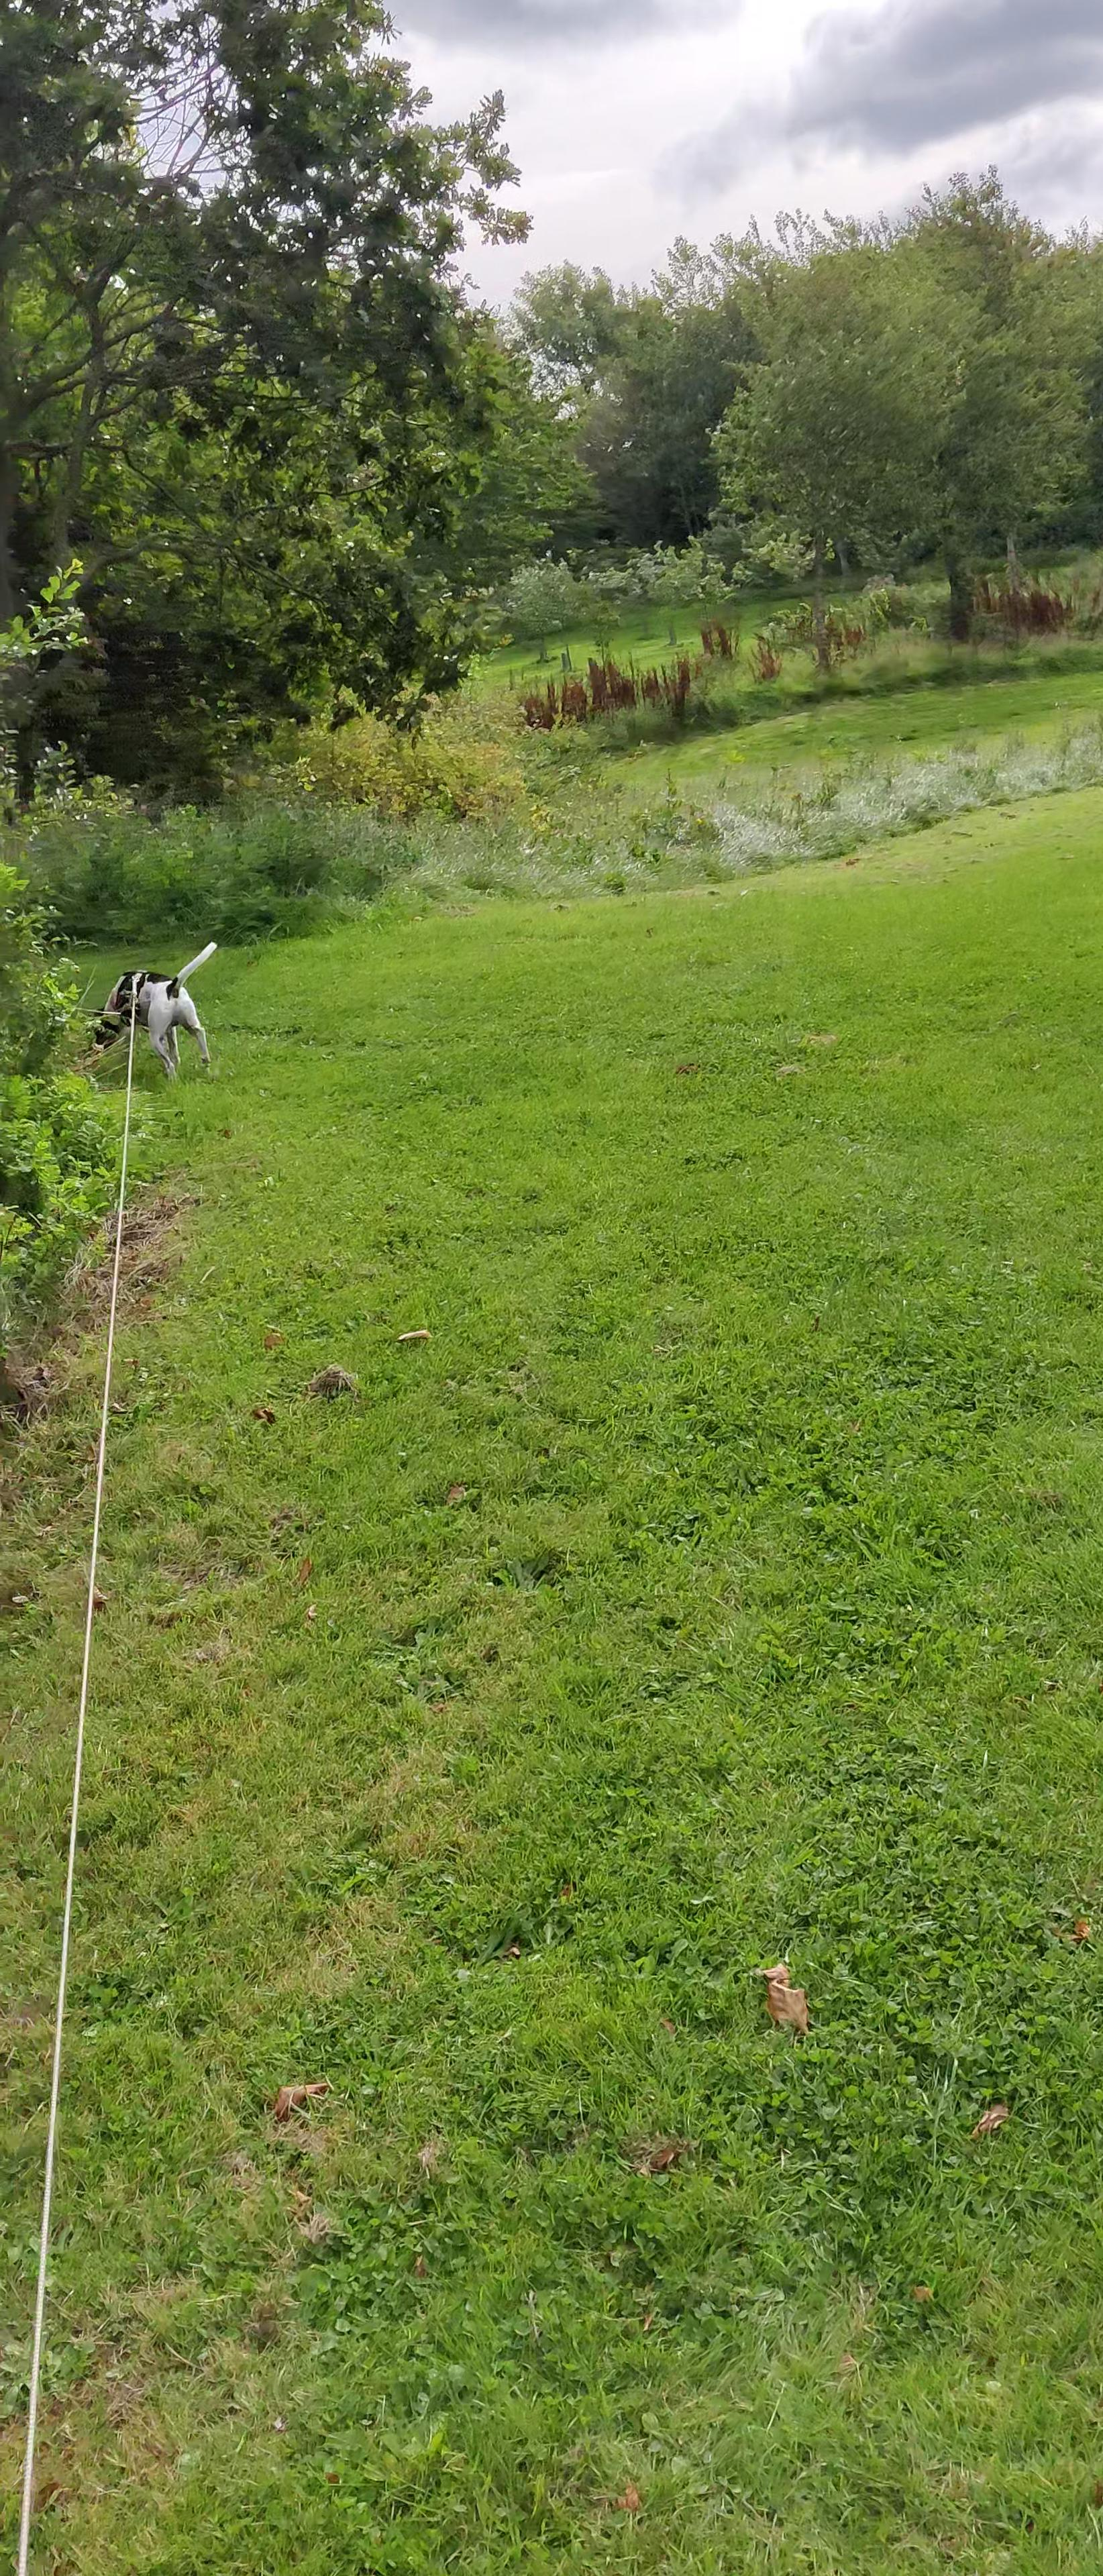Dog: (81, 930, 227, 1086)
